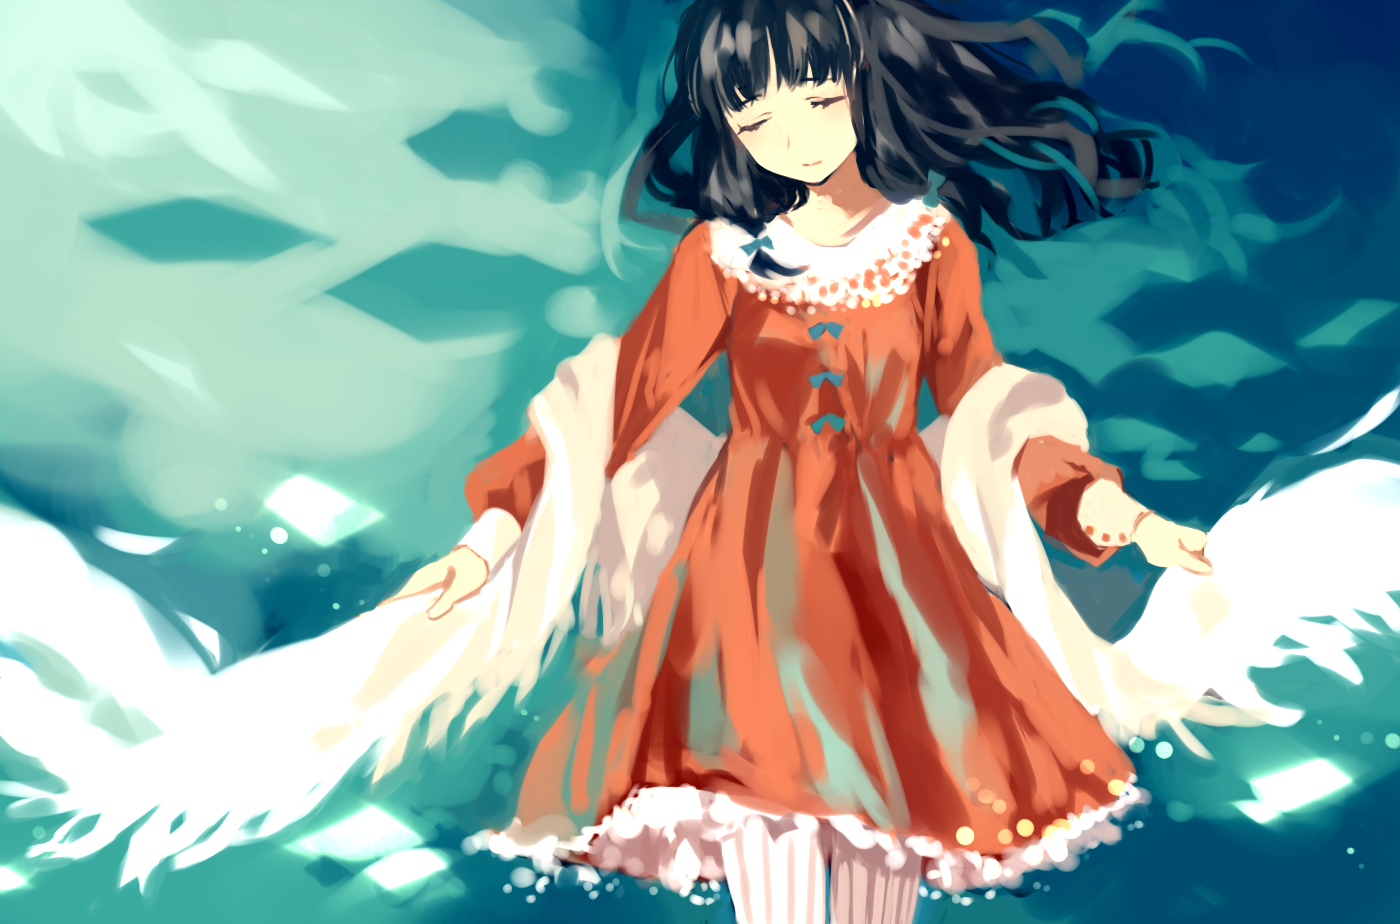纸片人正脸: (690, 8, 889, 187)
